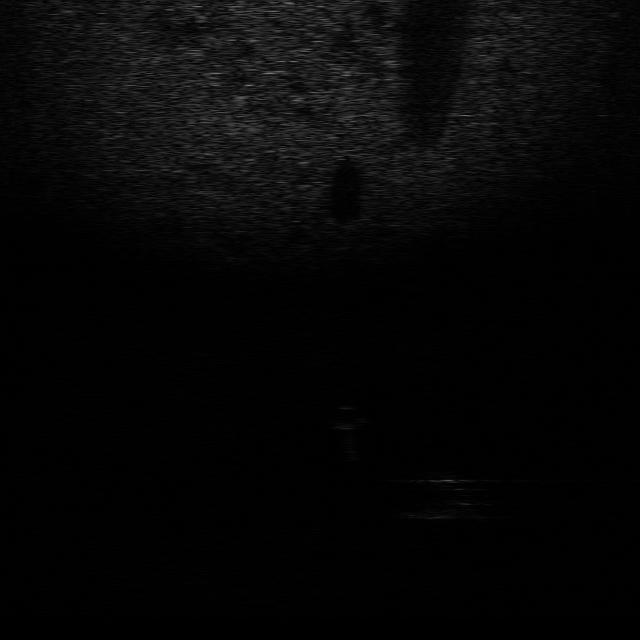ball: (322, 402, 370, 434)
tyre: (398, 469, 478, 524)
